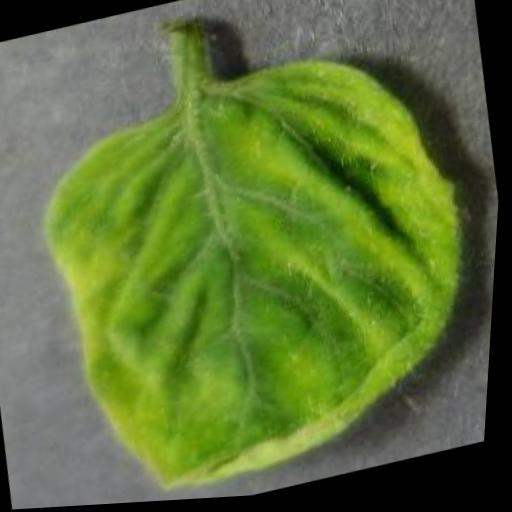Yellow Leaf Curl Virus: (12, 31, 507, 510)
